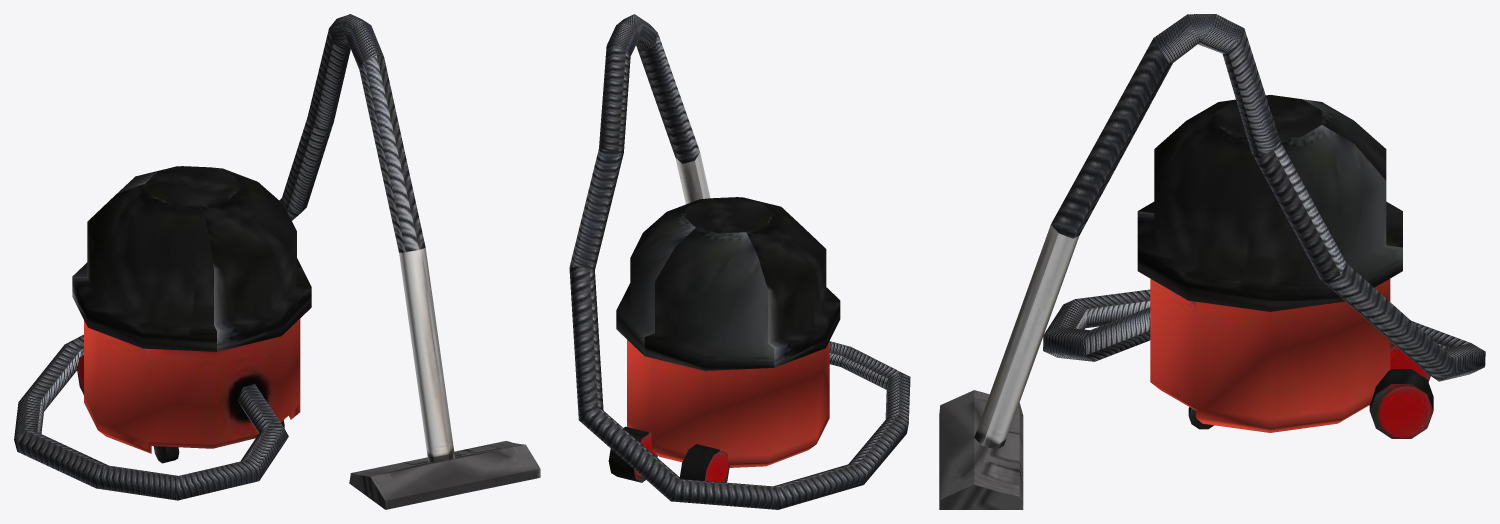
The model's file is shop_vac.FBX.
3 views of the same model, side by side, from view 1: azimuth 30°, elevation 25°; view 2: azimuth 150°, elevation 25°; view 3: azimuth 270°, elevation 25° (orthographic). The views are drawn at different scales.
Parts seen in each view (by area): view 1: shop_vac; view 2: shop_vac; view 3: shop_vac.
Boxes of the visible parts, bbox=[...] form: shop_vac: bbox=[14, 14, 540, 509]; shop_vac: bbox=[569, 14, 910, 509]; shop_vac: bbox=[939, 14, 1485, 509].
Size of the model in its own units: 69.52 by 73.02 by 77.08.
